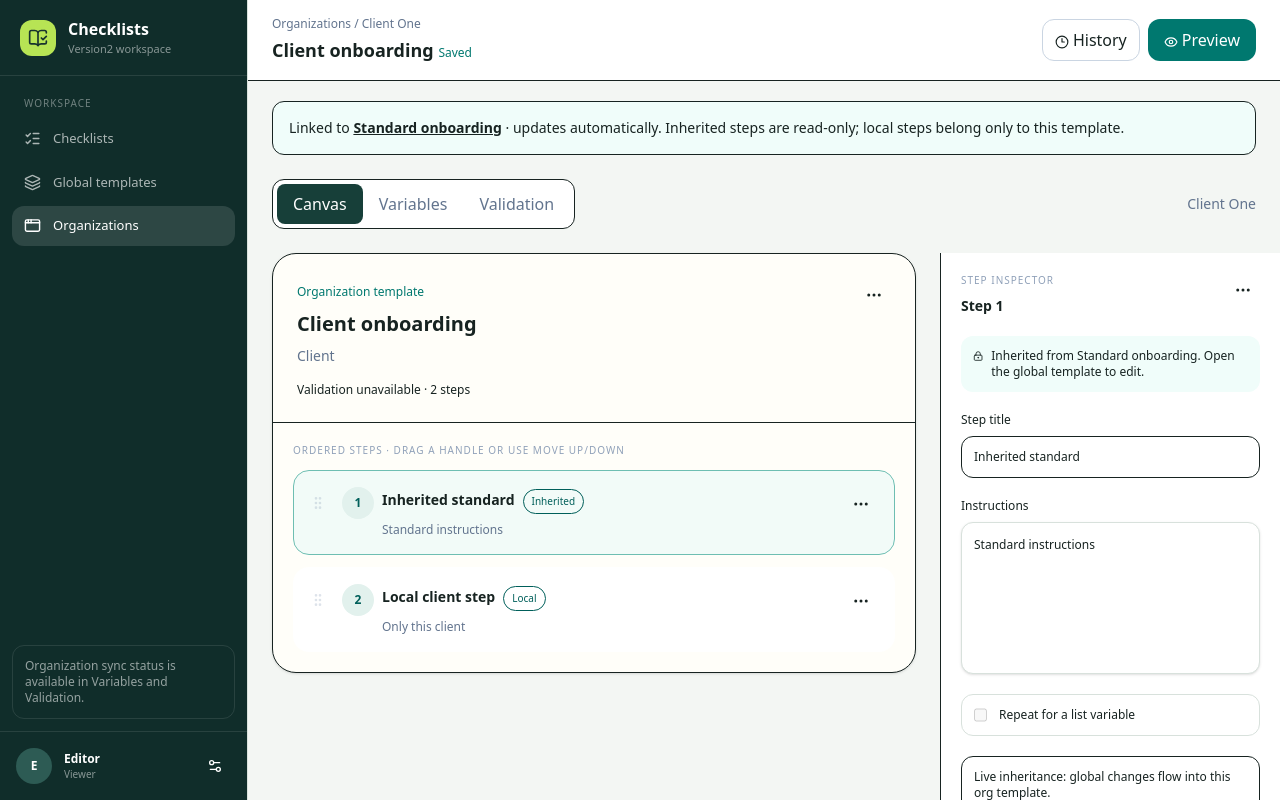
new template authoring › reloads stored context when returning to the tab without initiating an IT Glue sync
Step 1. Click the tab "Validation" → click(517, 204), box [463, 184, 570, 224]
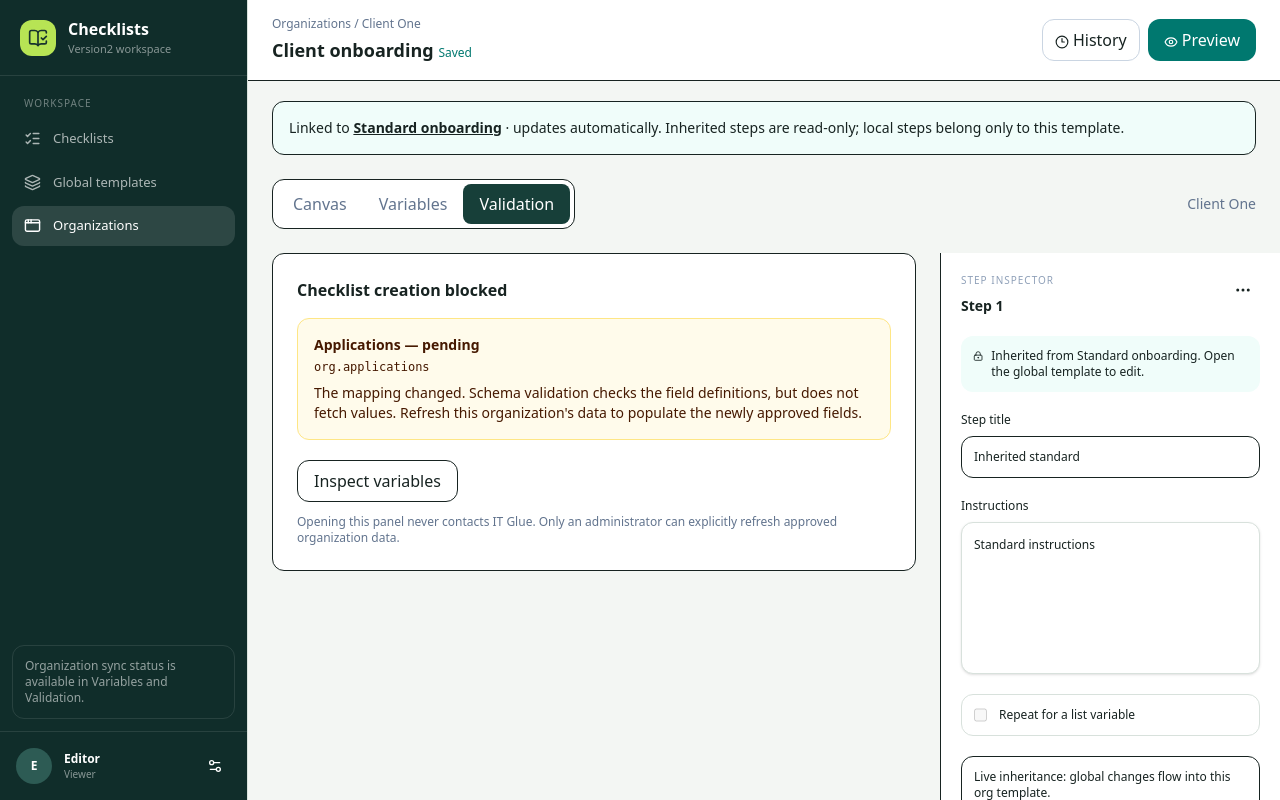
Expected: the text "Schema validation checks the field definitions" is shown, [314, 383, 862, 422]
Step 2. Click the tab "Canvas" → click(320, 204), box [277, 184, 363, 224]
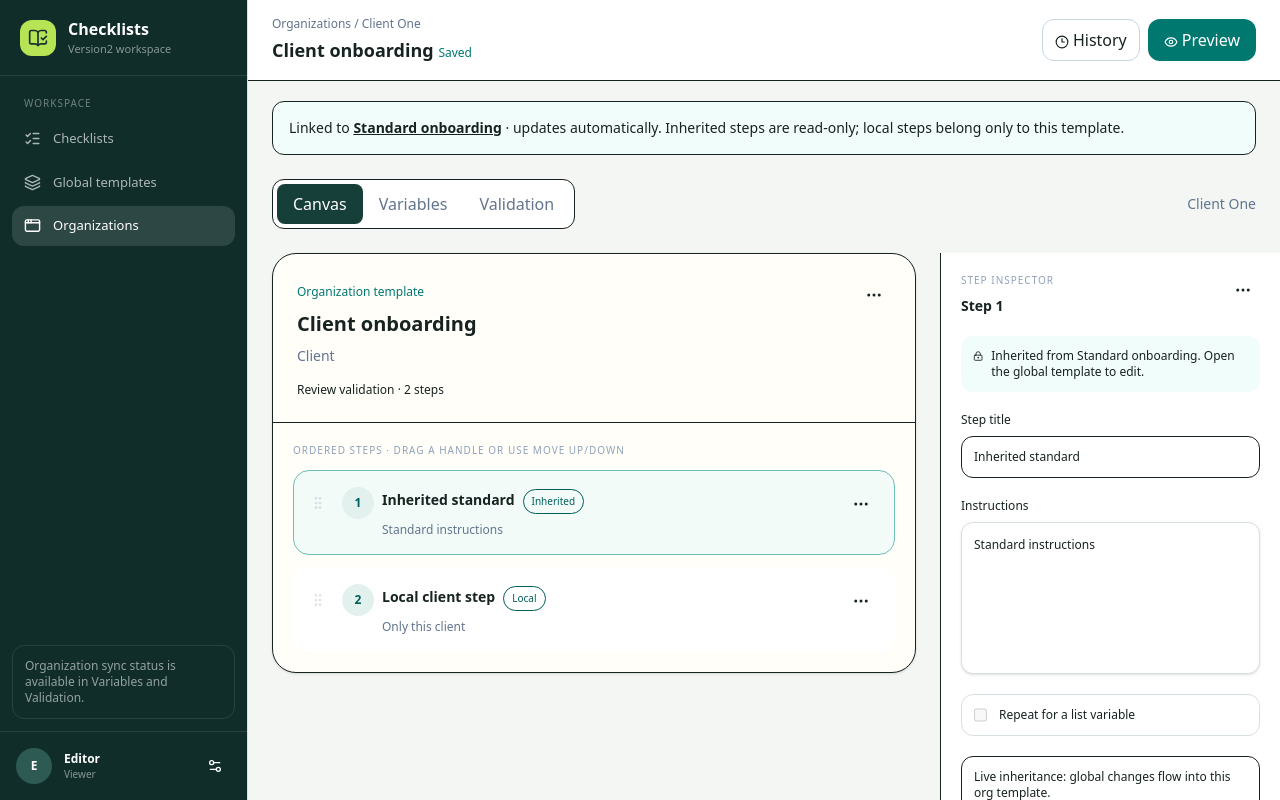
Step 3. Click the tab "Validation" → click(517, 204), box [463, 184, 570, 224]
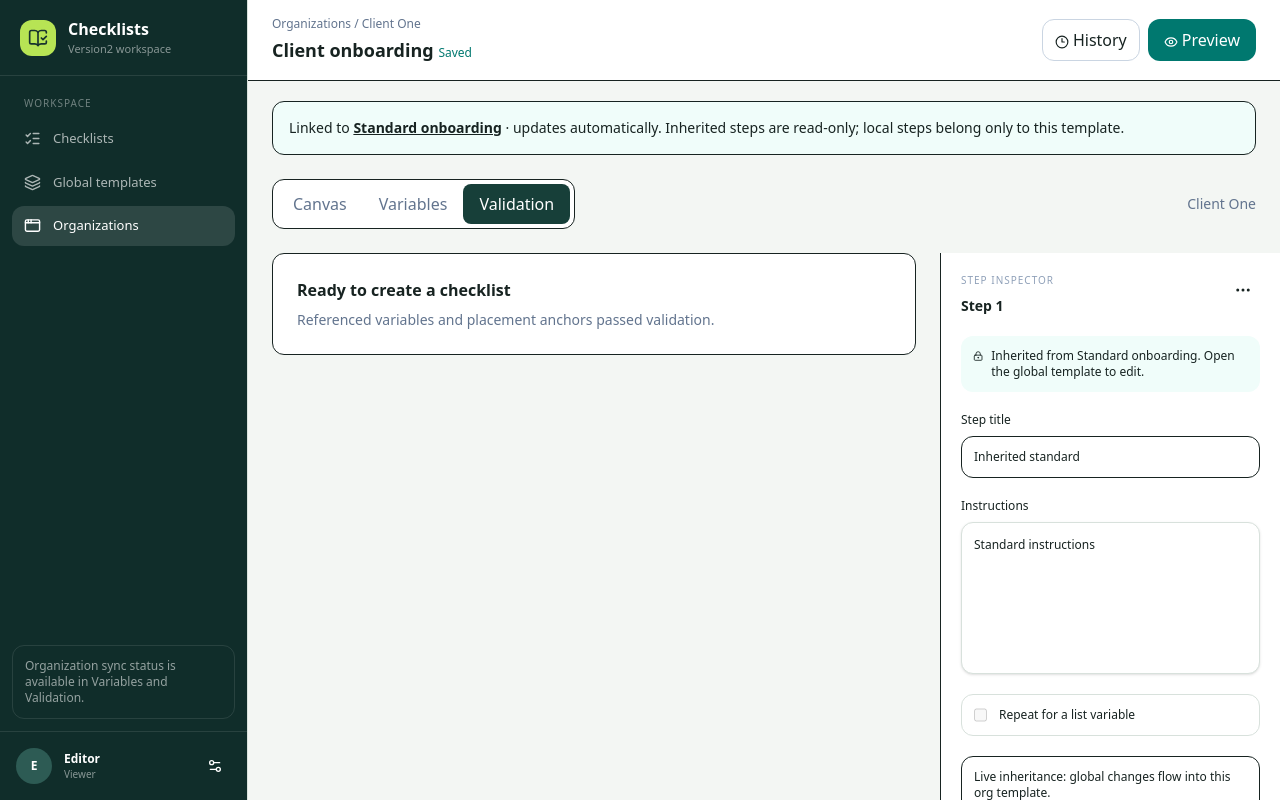
Expected: the heading "Ready to create a checklist" is shown, [297, 279, 511, 301]
